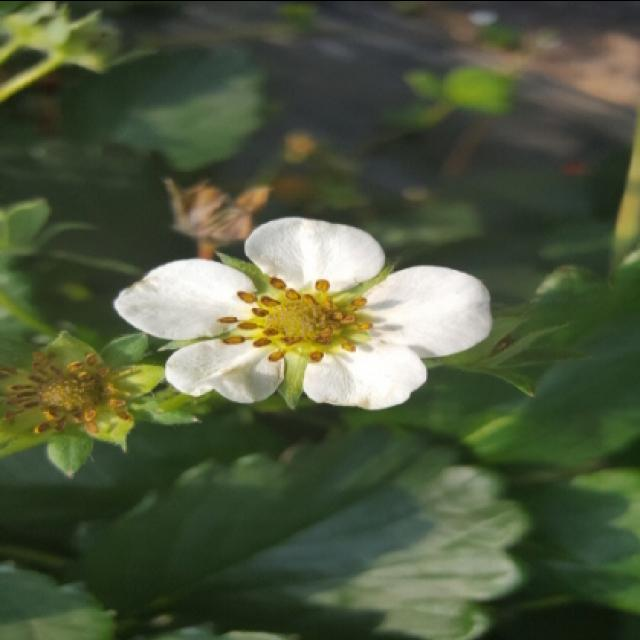Blossom Blight: (214, 267, 378, 368), (0, 346, 144, 440)
